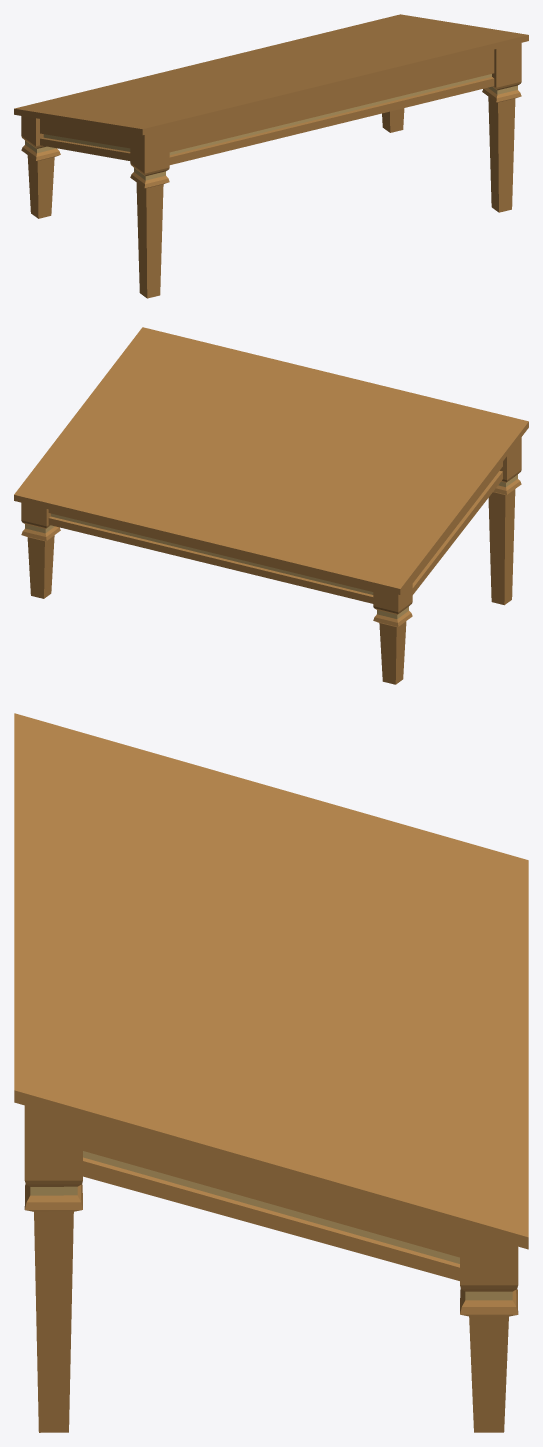
Rendered from table_tilted.fbx.
3 views of the same model, one above another, from view 1: azimuth 30°, elevation 25°; view 2: azimuth 150°, elevation 25°; view 3: azimuth 270°, elevation 25° (orthographic). The views are drawn at different scales.
Visible parts, largest first — view 1: Table Tilted; view 2: Table Tilted; view 3: Table Tilted.
Boxes of the visible parts, x1,y1,x2,y2 form: Table Tilted: (14,14,528,298); Table Tilted: (14,327,528,684); Table Tilted: (14,713,528,1432).
Bounding box in the file's own units: 390 × 170 × 225.
